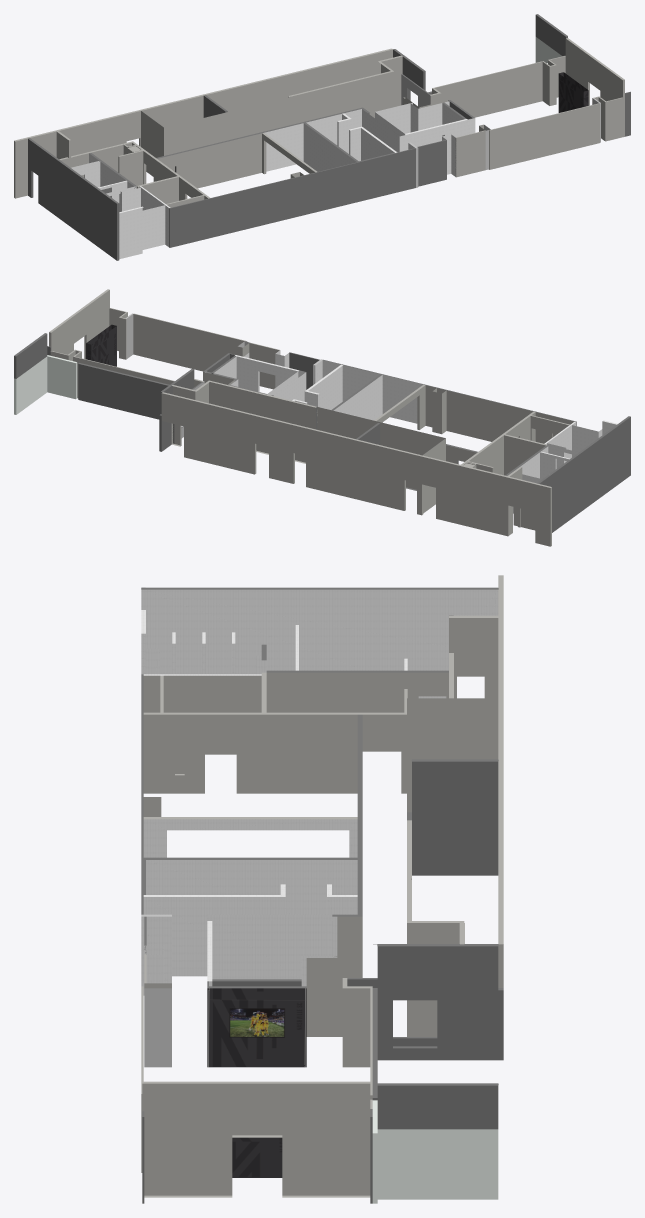
File: walls1.FBX
3 renders of one model, top to bottom at view 1: azimuth 30°, elevation 25°; view 2: azimuth 150°, elevation 25°; view 3: azimuth 270°, elevation 25°, orthographic. The views are drawn at different scales.
Visible parts, largest first — view 1: Int_walls29, Int_walls26, Int_walls20, Int_walls31, Int_walls05, Int_walls22, Int_walls02, Int_walls03, Int_walls06, Int_walls27, Int_walls10, Int_walls32 (+13 smaller); view 2: Int_walls29, Int_walls20, Int_walls26, Int_walls22, Int_walls16, Int_walls03, Int_walls02, Int_walls06, Int_walls18, Int_walls00, Int_walls19, Int_walls07 (+14 smaller); view 3: Int_walls29, Int_walls20, Int_walls06, Int_walls04, Int_walls18, Int_walls23, Int_walls13, Int_walls16, Int_walls07, Int_walls00, Int_walls02, Int_walls10 (+9 smaller).
Part boxes in pixels (x1,y1,x2,y2): Int_walls29: [14, 14, 567, 198]; Int_walls26: [169, 162, 357, 247]; Int_walls20: [28, 138, 119, 260]; Int_walls31: [156, 121, 305, 188]; Int_walls05: [401, 61, 550, 117]; Int_walls22: [489, 98, 600, 169]; Int_walls02: [141, 97, 288, 176]; Int_walls03: [288, 55, 402, 125]; Int_walls06: [548, 38, 624, 141]; Int_walls27: [305, 107, 415, 201]; Int_walls10: [119, 186, 170, 258]; Int_walls32: [417, 130, 485, 186]; Int_walls29: [14, 333, 551, 546]; Int_walls20: [537, 416, 630, 532]; Int_walls26: [382, 374, 576, 443]; Int_walls22: [126, 313, 247, 371]; Int_walls16: [78, 363, 172, 451]; Int_walls03: [171, 380, 317, 463]; Int_walls02: [316, 407, 445, 513]; Int_walls06: [49, 289, 127, 360]; Int_walls18: [331, 374, 425, 429]; Int_walls00: [274, 364, 342, 409]; Int_walls19: [504, 415, 569, 475]; Int_walls07: [230, 355, 305, 395]; Int_walls29: [373, 575, 503, 1199]; Int_walls20: [141, 587, 498, 698]; Int_walls06: [142, 1081, 372, 1197]; Int_walls04: [143, 712, 362, 793]; Int_walls18: [143, 817, 357, 914]; Int_walls23: [207, 981, 306, 1067]; Int_walls13: [266, 670, 448, 751]; Int_walls16: [372, 988, 503, 1100]; Int_walls07: [207, 914, 357, 986]; Int_walls00: [143, 884, 357, 976]; Int_walls02: [407, 698, 498, 879]; Int_walls10: [141, 610, 261, 754].
Size of the model in its own units: 1759 by 183 by 524.
